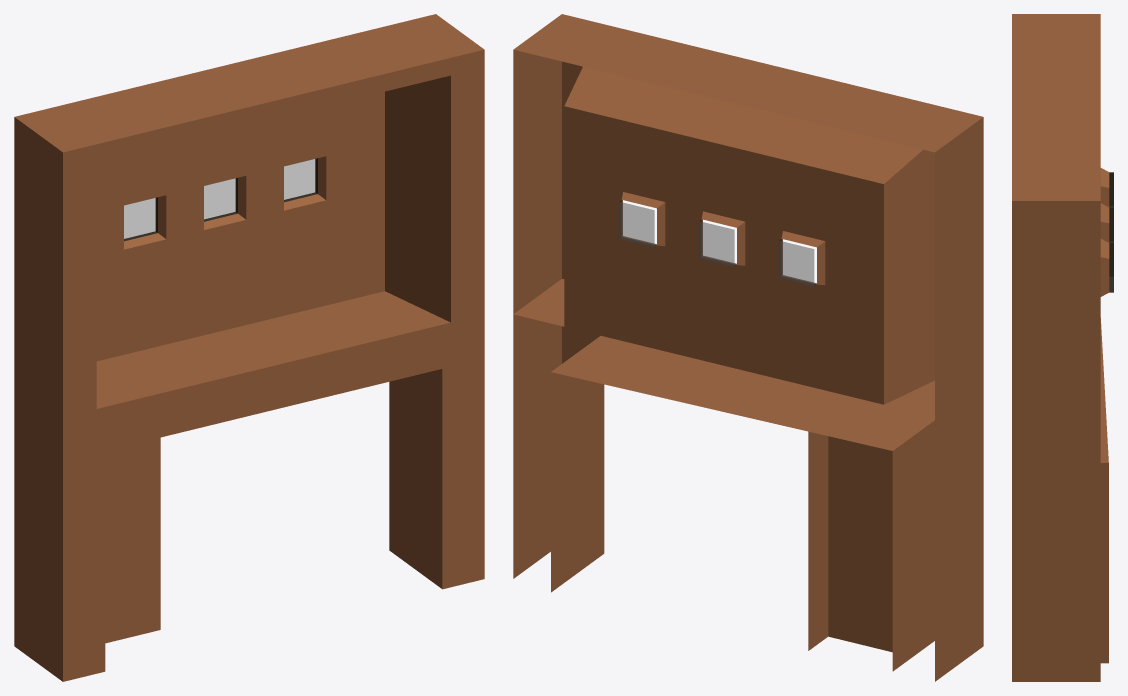
File: Loftman.FBX
The picture shows the model from 3 angles, left to right: view 1: azimuth 30°, elevation 25°; view 2: azimuth 150°, elevation 25°; view 3: azimuth 270°, elevation 25°; orthographic projection. The views are drawn at different scales.
Visible parts, largest first — view 1: Loftman; view 2: Loftman; view 3: Loftman.
Boxes of the visible parts, <box> form: Loftman: <box>14,14,484,681</box>; Loftman: <box>513,14,983,681</box>; Loftman: <box>1012,14,1113,681</box>.
Size of the model in its own units: 500 by 600 by 115.
